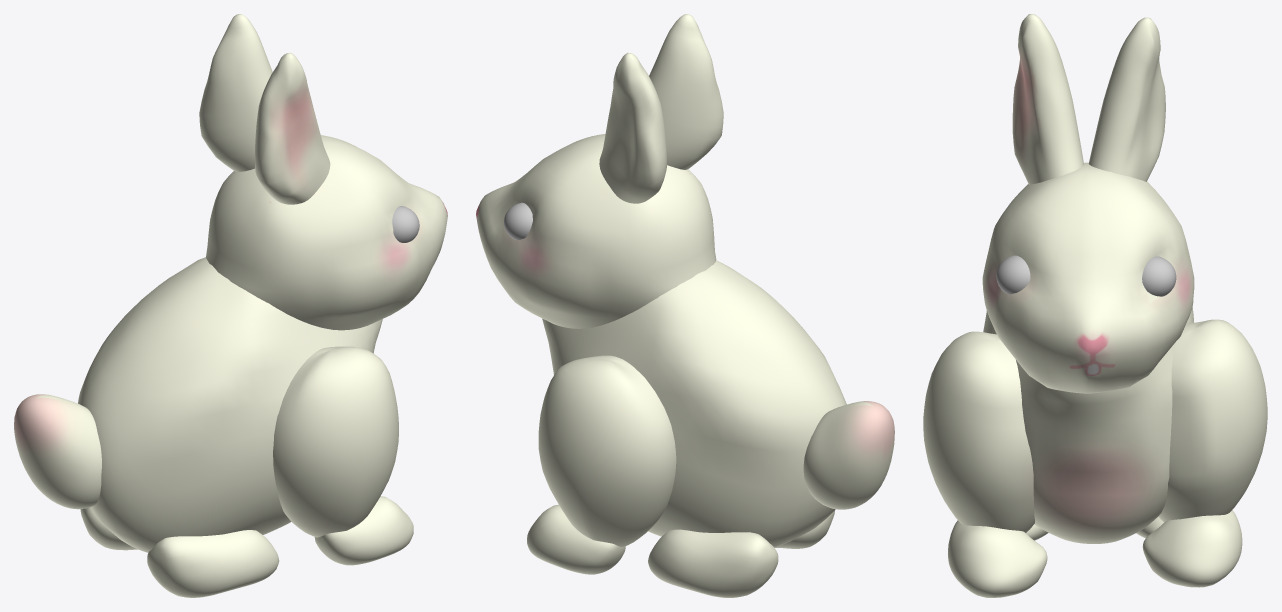
File: 15720_autosave.fbx
3 views of the same model, side by side, from view 1: azimuth 30°, elevation 25°; view 2: azimuth 150°, elevation 25°; view 3: azimuth 270°, elevation 25° (orthographic). The views are drawn at different scales.
Parts seen in each view (by area): view 1: Sphere.011, Sphere.001; view 2: Sphere.011, Sphere; view 3: Sphere.011, Sphere, Sphere.001.
Boxes of the visible parts, box(x1,y1,x2,y2) form: Sphere.011: box(14, 14, 447, 597); Sphere.001: box(392, 206, 419, 242); Sphere.011: box(476, 14, 894, 597); Sphere: box(504, 202, 532, 239); Sphere.011: box(923, 14, 1267, 597); Sphere: box(1142, 256, 1176, 296); Sphere.001: box(996, 255, 1030, 294).
Bounding box in the file's own units: 1216 × 1419 × 805.
